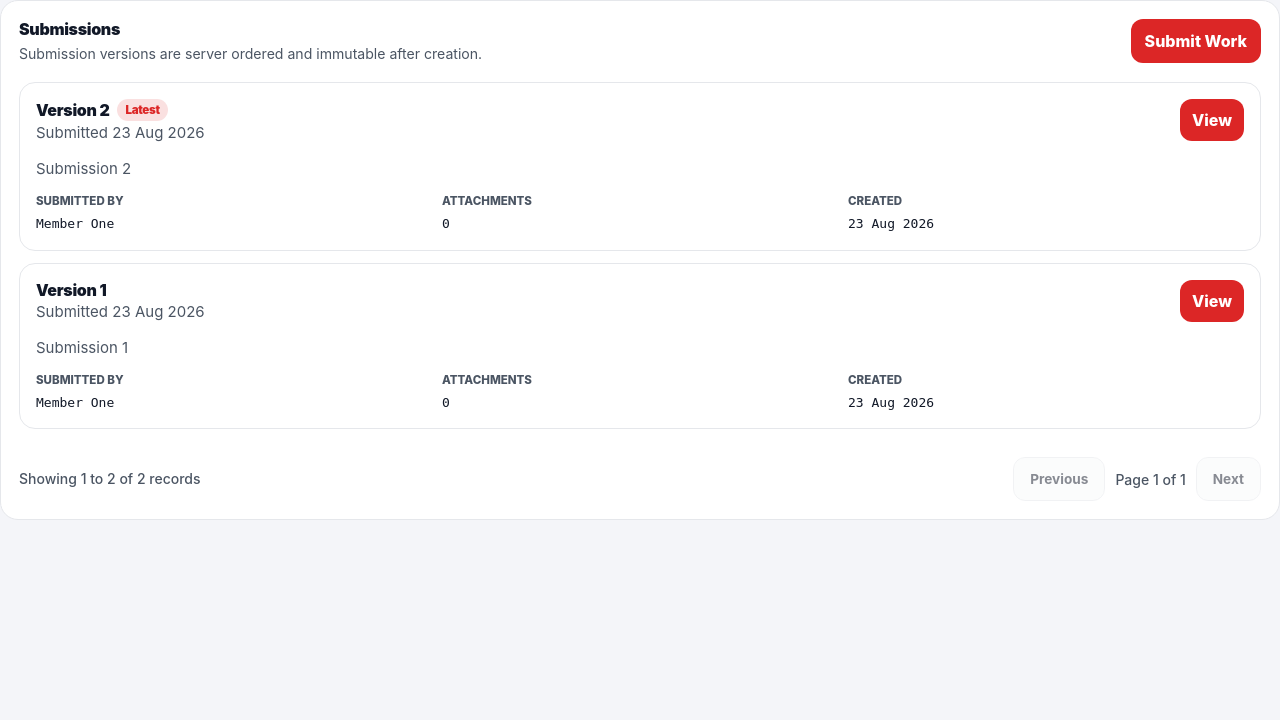
TaskSubmissions › reconciles workflow after TASK_DIRECT_COMPLETION_REQUIRED without retrying
The width and height of the screenshot is (1280, 720).
Click the button "Submit Work": (1196, 41) x1=1131 y1=19 x2=1261 y2=63
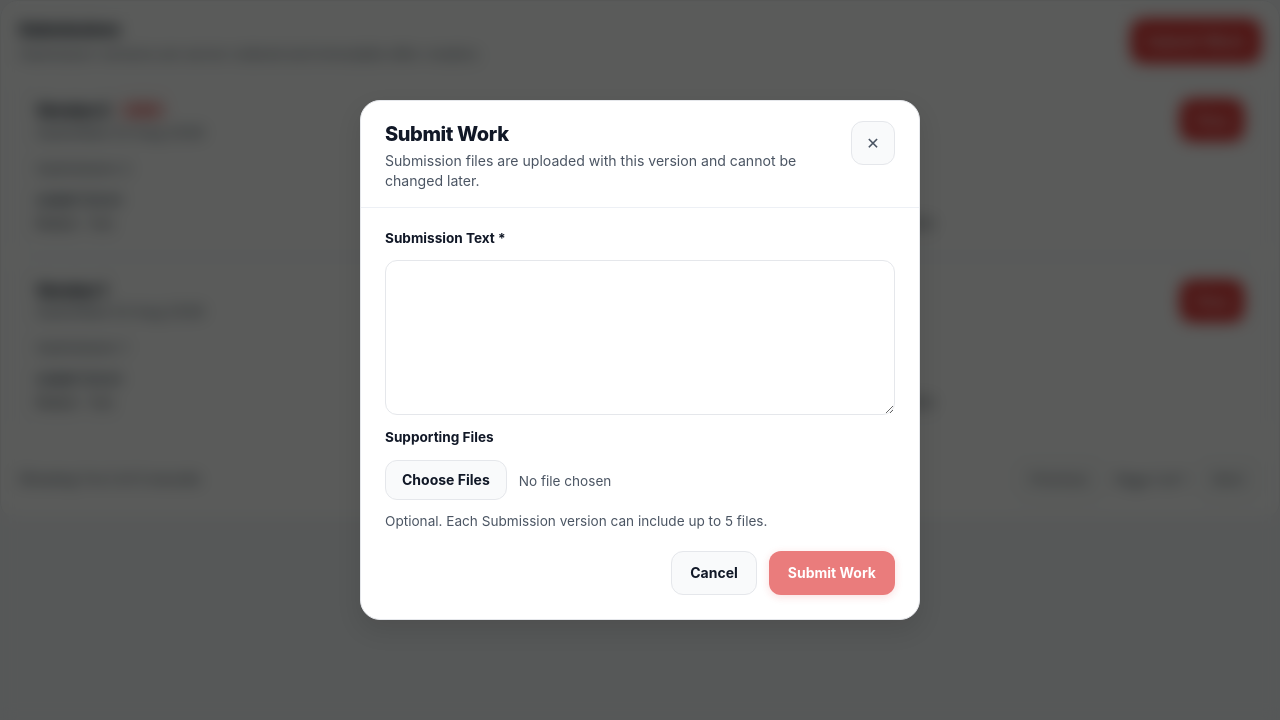
In the text box labelled "Submission Text *": (640, 338) x1=385 y1=260 x2=895 y2=416, type "Done"
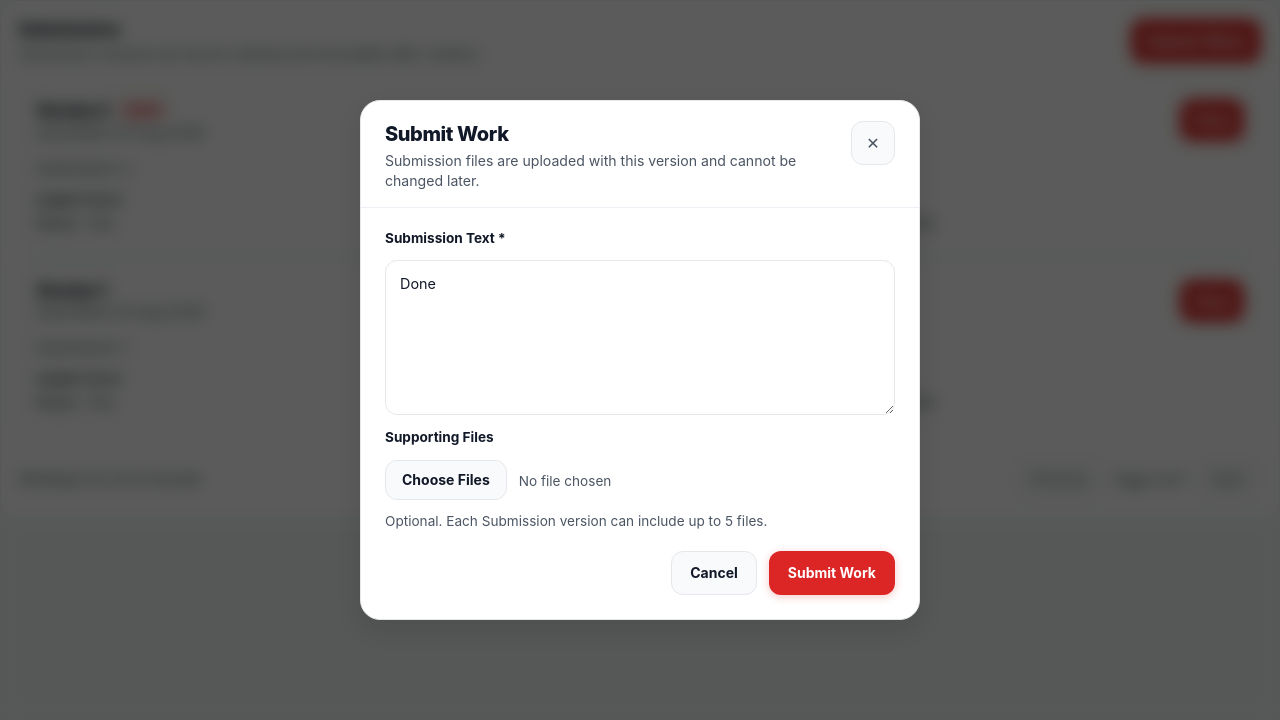
Click the button "Submit Work": (832, 573) x1=769 y1=551 x2=895 y2=595
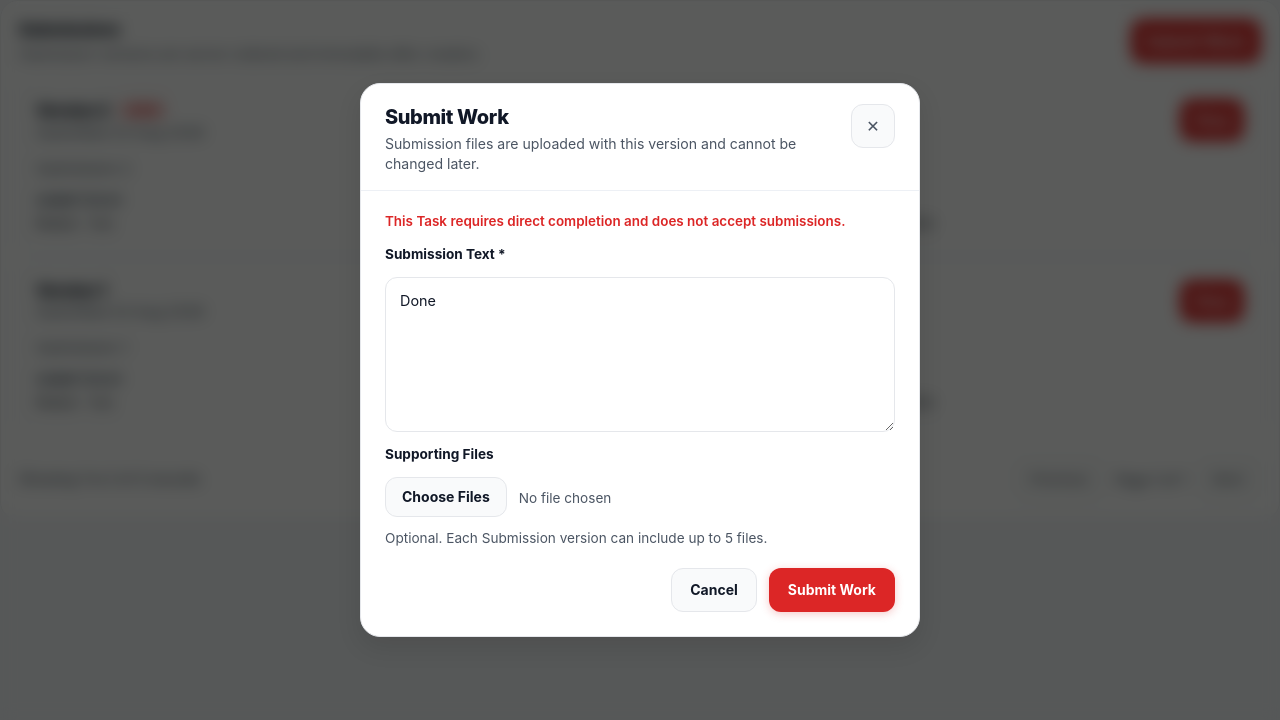
Check: the message reads "This Task requires direct completion and does not accept submissions.", box x1=385 y1=213 x2=845 y2=229
